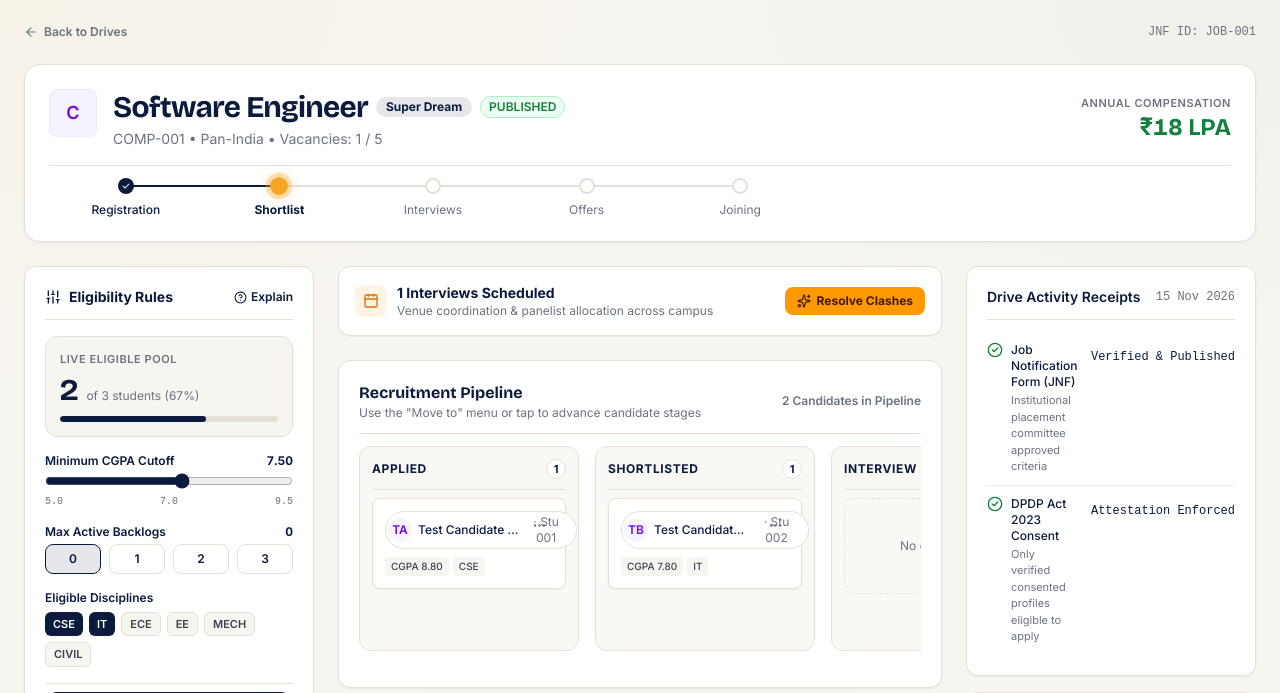
DriveRoomPage — Journey System Execution › updates live eligible count when CGPA slider changes
Expected: the heading "Software Engineer" is shown, left=113, top=89, right=368, bottom=125
Set the slider labelled "Minimum CGPA Cutoff" to "8.5": (233, 480) left=45, top=472, right=293, bottom=488
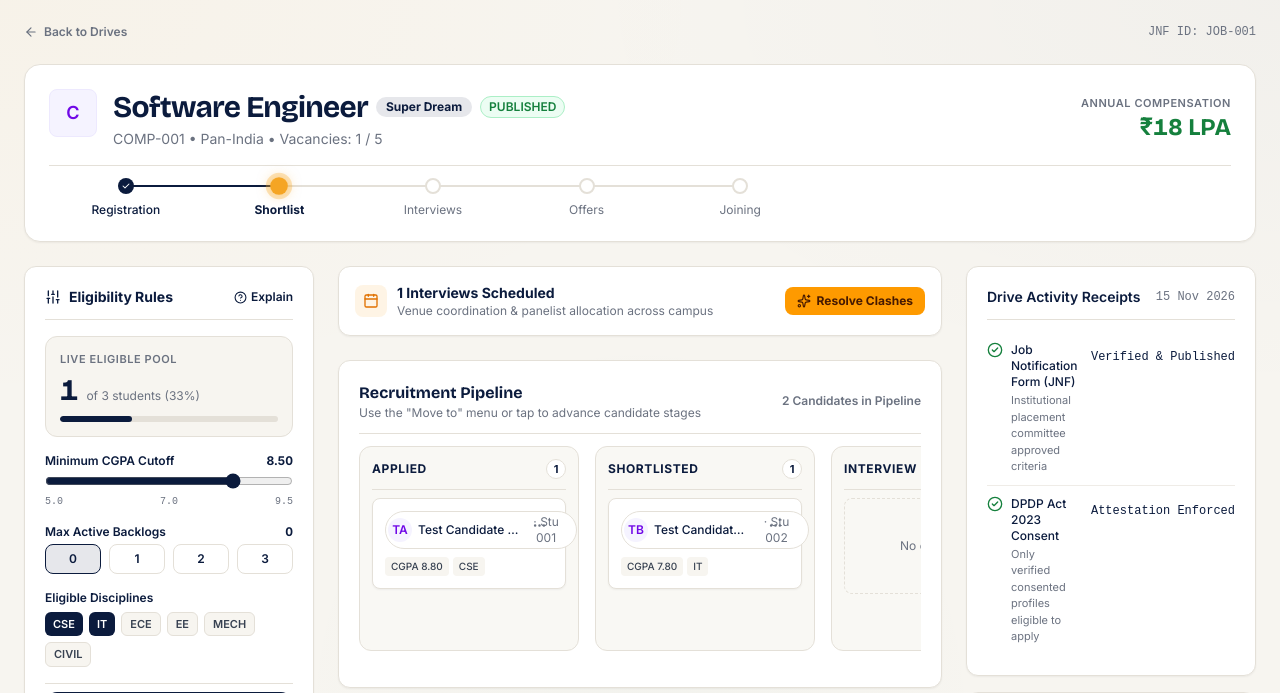
Expected: the text with test id "live-eligible-count" reads "1", left=60, top=372, right=78, bottom=408
